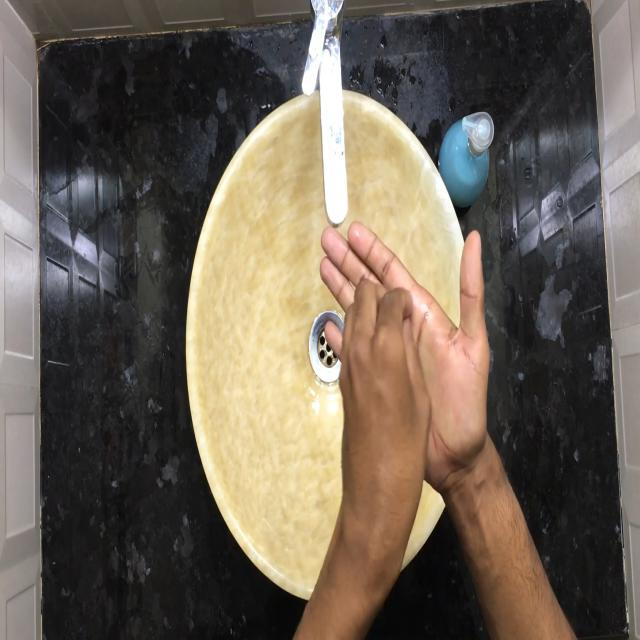step_6: (309, 204, 496, 512)
